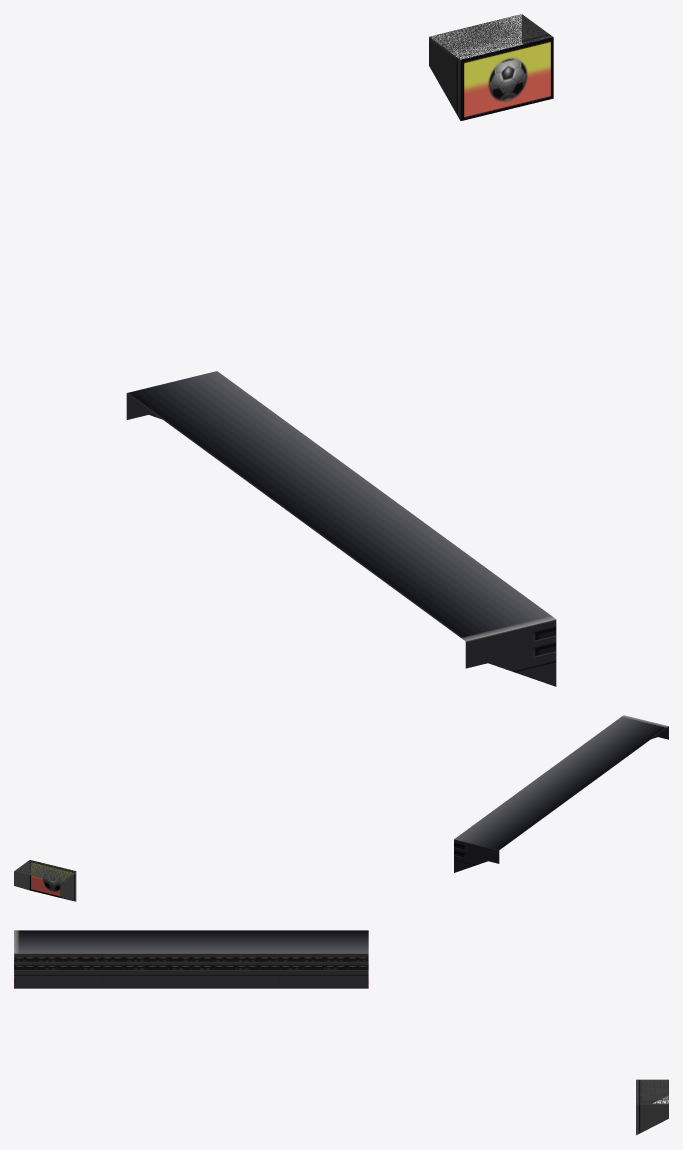
The picture shows the model from 3 angles, top to bottom: view 1: azimuth 30°, elevation 25°; view 2: azimuth 150°, elevation 25°; view 3: azimuth 270°, elevation 25°; orthographic projection. The views are drawn at different scales.
Size of the model in its own units: 73.82 by 7.18 by 117.
Materials: 3 (3 with a texture image).
